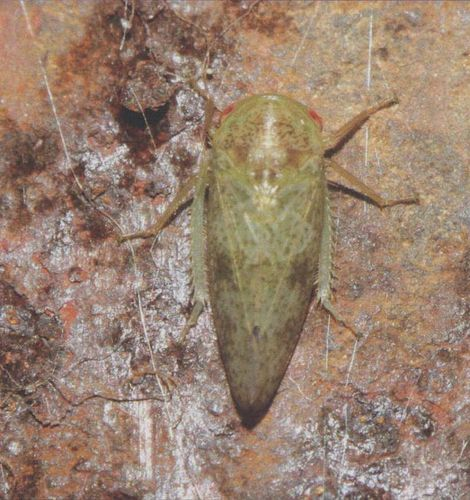Cicadellidae: (174, 91, 340, 431)
